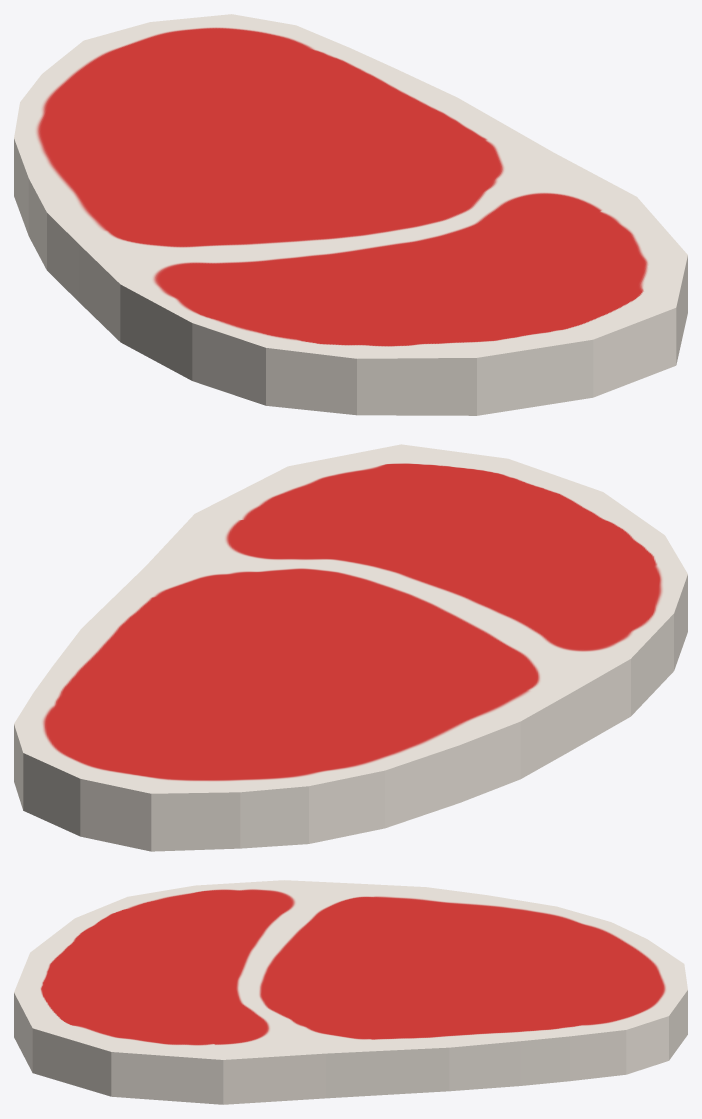
File: steak.fbx
3 views of the same model, one above another, from view 1: azimuth 30°, elevation 25°; view 2: azimuth 150°, elevation 25°; view 3: azimuth 270°, elevation 25° (orthographic). The views are drawn at different scales.
Visible parts, largest first — view 1: Plane; view 2: Plane; view 3: Plane.
Boxes of the visible parts, x1=… form: Plane: x1=14, y1=14, x2=687, y2=415; Plane: x1=14, y1=444, x2=687, y2=851; Plane: x1=14, y1=880, x2=687, y2=1104.
Size of the model in its own units: 141 by 16.44 by 224.
Materials: 1 (1 with a texture image).
